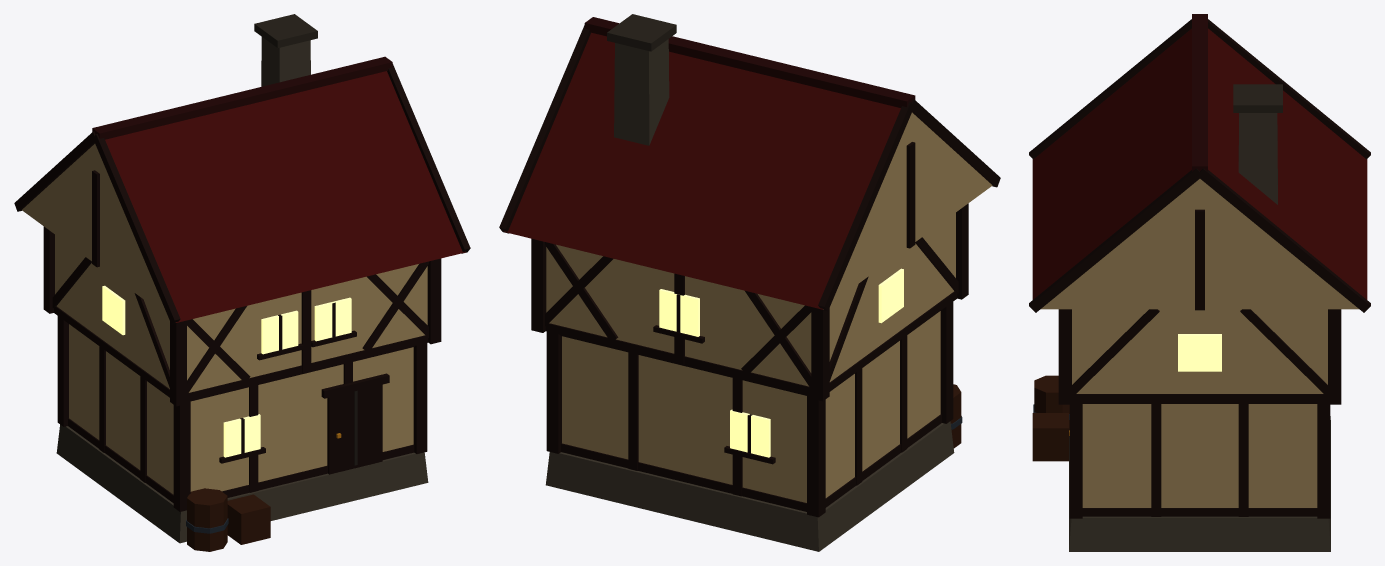
File: CasaEnxaimel.fbx
3 views of the same model, side by side, from view 1: azimuth 30°, elevation 25°; view 2: azimuth 150°, elevation 25°; view 3: azimuth 270°, elevation 25° (orthographic). The views are drawn at different scales.
Visible parts, largest first — view 1: CasaEnxaimel; view 2: CasaEnxaimel; view 3: CasaEnxaimel.
Part boxes in pixels (x1,y1,x2,y2): CasaEnxaimel: (14,14,470,551); CasaEnxaimel: (499,14,1000,551); CasaEnxaimel: (1029,14,1370,551).
Size of the model in its own units: 5 by 6.51 by 4.69.
